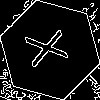X: (25, 25, 78, 69)
